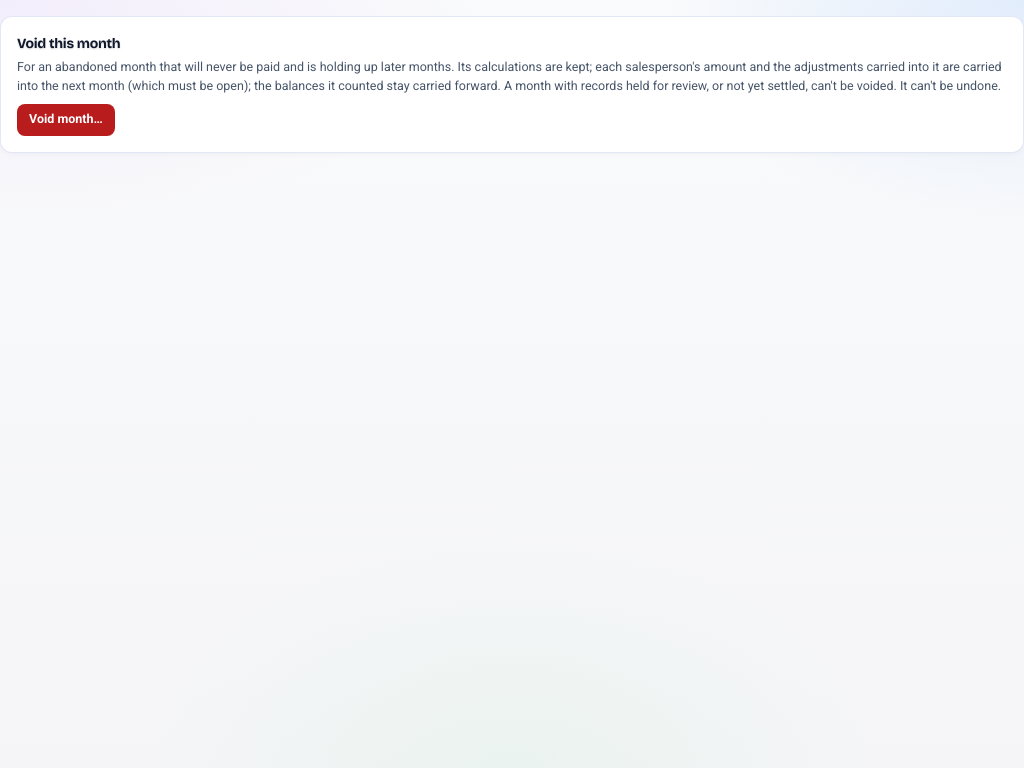
Test: Categories C–G on screen › Void month: only after a REQUIRED reason and an explicit confirmation; a voided month says so, with who, why and what was carried
This screenshot has width=1024, height=768.
Later steps or results of the test are not shown.
Click the button "Void month…".
click(66, 120)  # box [17,104,115,136]
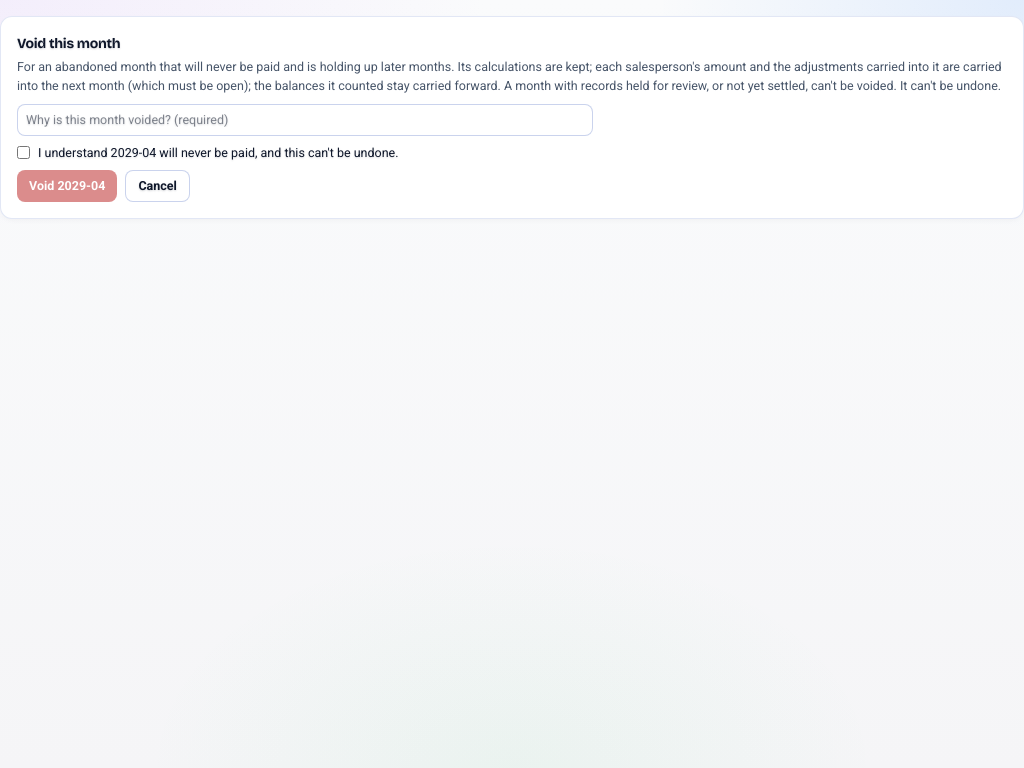
Expected: the button "Void 2029-04" is disabled, [17,170,117,202]
Type "Abandoned" into the field named "Reason for voiding the month".
click(305, 120); type("Abandoned")  # box [17,104,593,136]
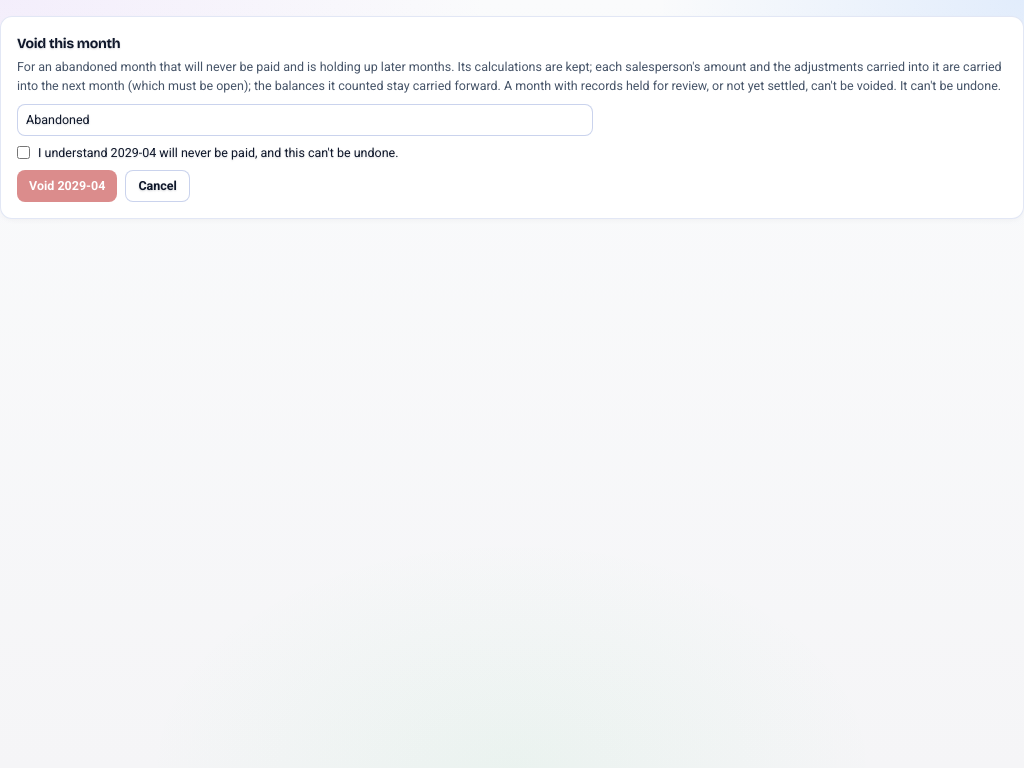
Expected: the button "Void 2029-04" is disabled, [17,170,117,202]
Click the checkbox.
click(24, 153)  # box [17,146,30,159]
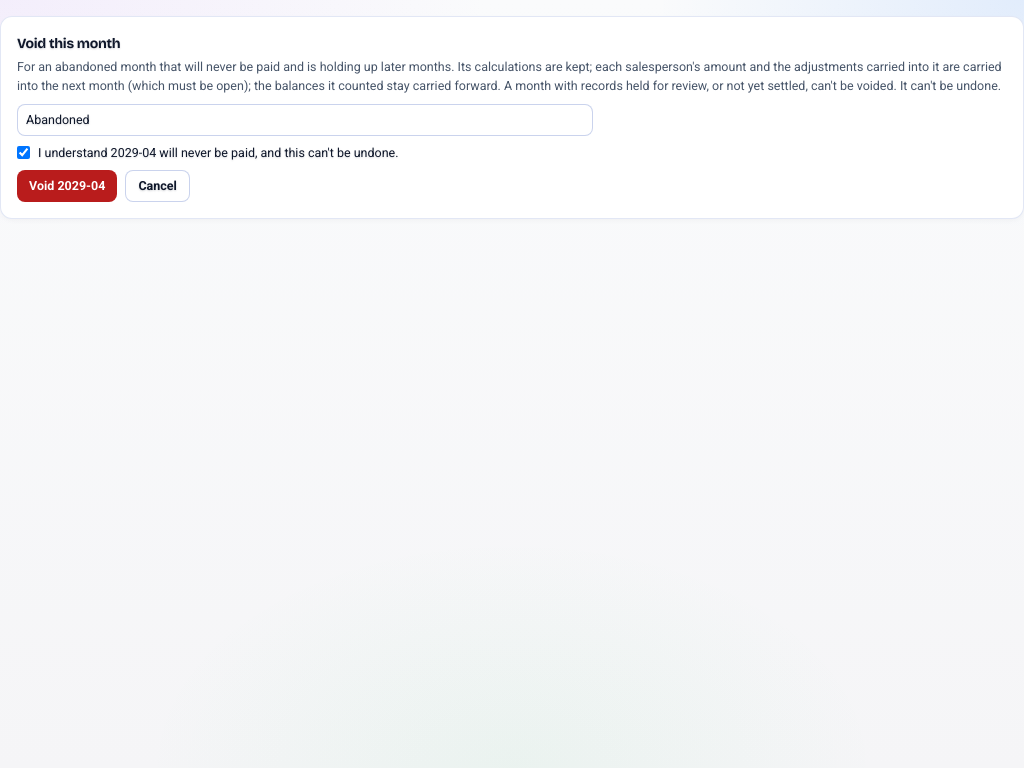
Expected: the button "Void 2029-04" is enabled, [17,170,117,202]
